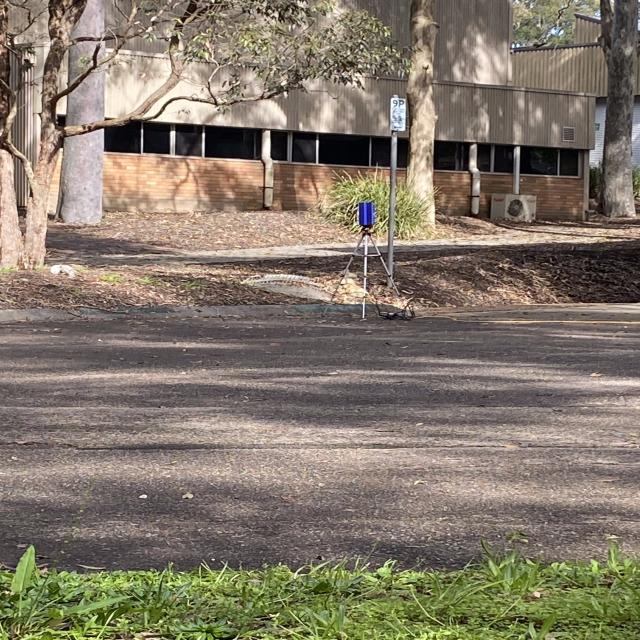matrix: (356, 201, 377, 228)
